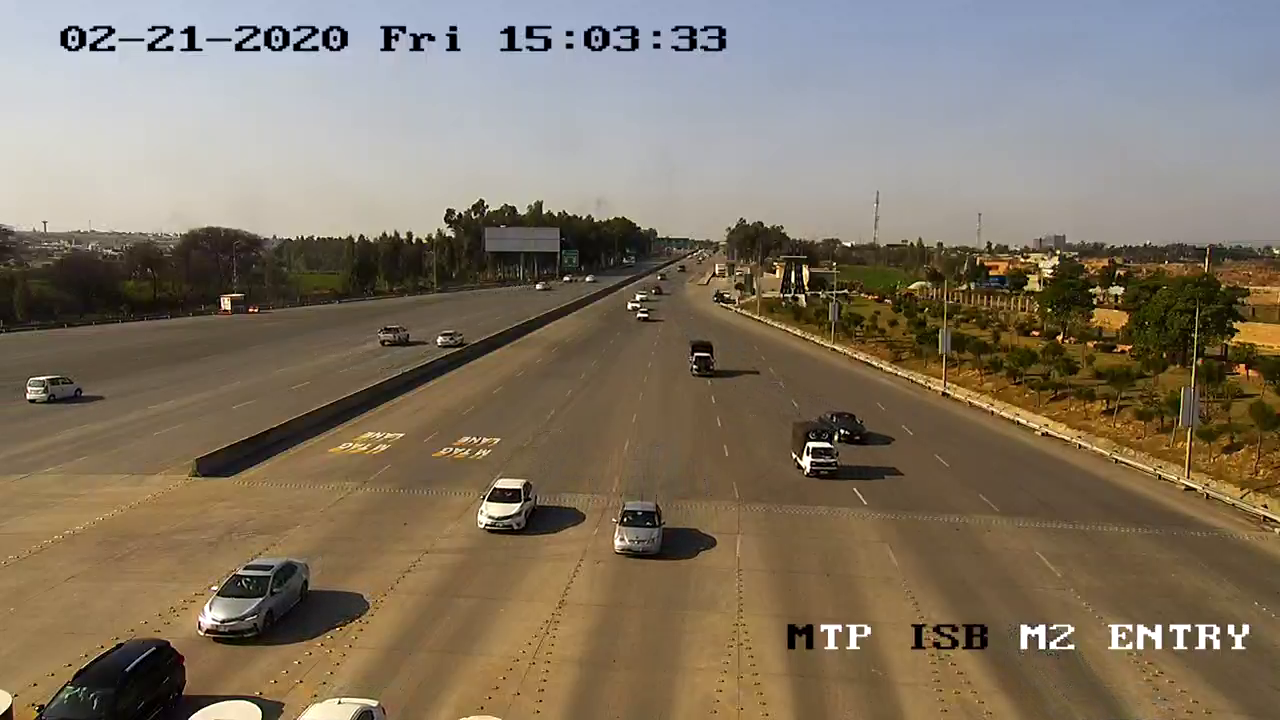f1: (185, 548, 314, 646), (469, 468, 545, 541), (777, 413, 846, 485), (606, 492, 671, 562)
